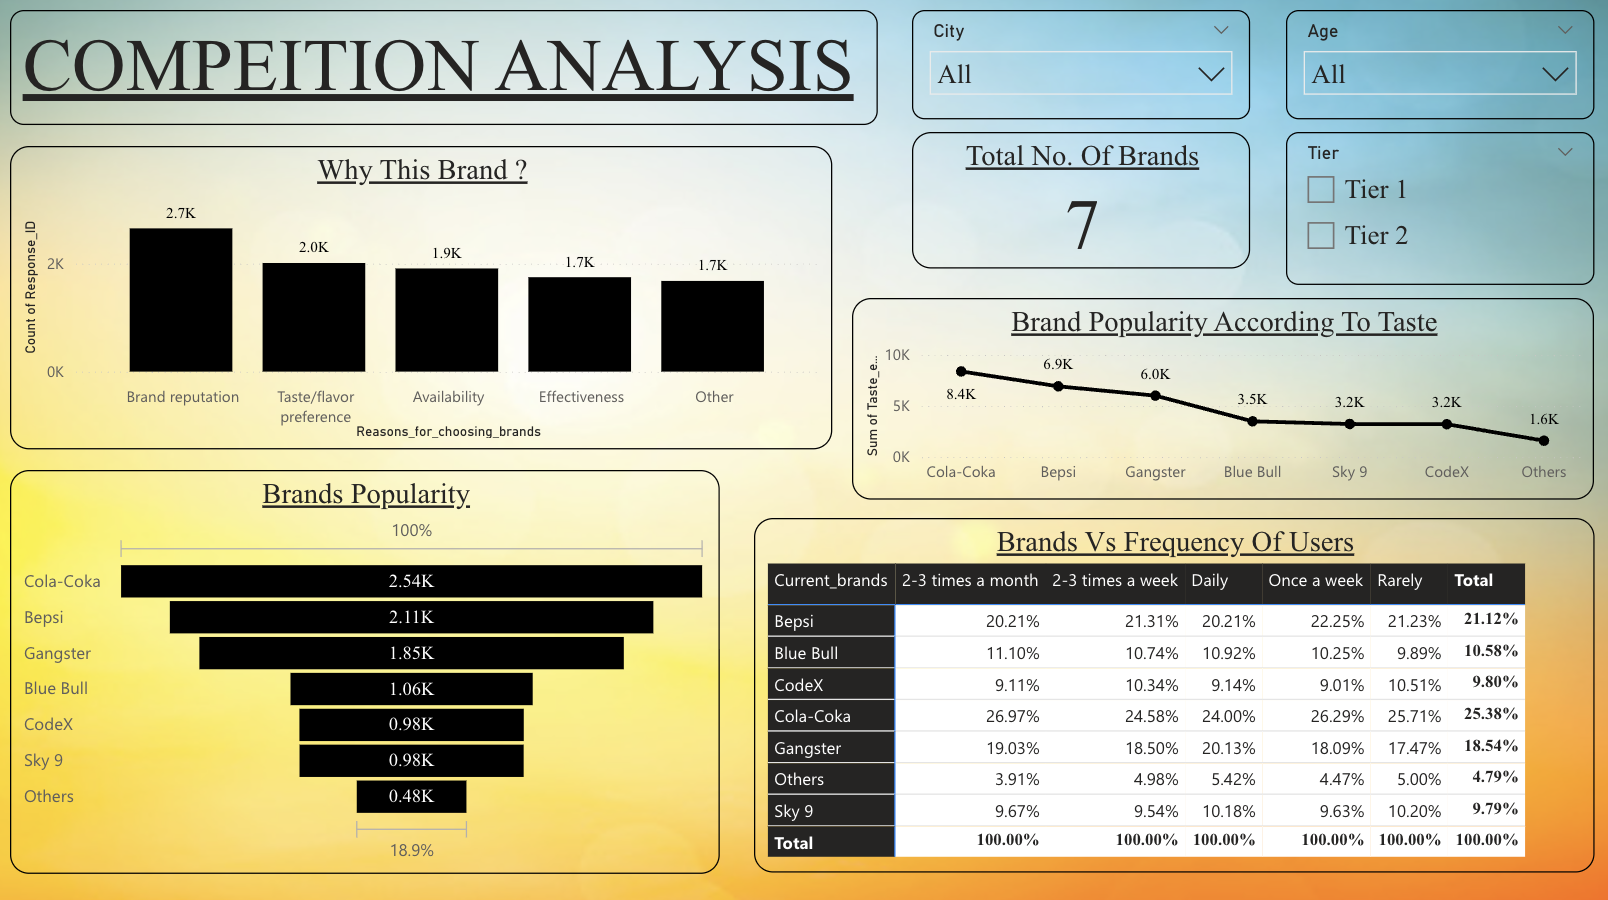

What the dashboard file says about the page in this screenshot:
{"tool":"powerbi","page":{"name":"competition analysis","canvas":[1280,720],"ordinal":3},"visuals":[{"type":"textbox","box":[11.3,11.3,686.3,90.8],"z":0},{"type":"slicer","fields":{"Values":["dim_cities.City"]},"box":[725.3,10.8,267.7,86.3],"z":1000},{"type":"slicer","fields":{"Values":["dim_repondents.Age"]},"box":[1021,10.8,243.9,86.3],"z":2000},{"type":"slicer","fields":{"Values":["dim_cities.Tier"]},"box":[1021,107.9,243.9,120.9],"z":3000},{"type":"card","title":"Total No. Of Brands","fields":{"Values":["Count(fact_survey_responses.Current_brands)"]},"box":[725.3,107.9,267.7,107.9],"z":4000},{"type":"funnel","title":"Brands Popularity","fields":{"Category":["fact_survey_responses.Current_brands"],"Y":["CountNonNull(fact_survey_responses.Response_ID)"]},"box":[11.3,374.4,561.5,319.5],"z":5000},{"type":"clusteredColumnChart","title":"Why This Brand ? ","fields":{"Y":["CountNonNull(fact_survey_responses.Response_ID)"],"Category":["fact_survey_responses.Reasons_for_choosing_brands"]},"box":[11.3,119.1,650.4,240.1],"z":6000},{"type":"lineChart","title":"Brand Popularity According To Taste","fields":{"Category":["fact_survey_responses.Current_brands"],"Y":["Sum(fact_survey_responses.Taste_experience)"]},"box":[677.8,239.6,587.1,159.7],"z":7000},{"type":"pivotTable","title":"Brands Vs Frequency Of Users","fields":{"Rows":["fact_survey_responses.Current_brands"],"Columns":["fact_survey_responses.Consume_frequency"],"Values":["CountNonNull(fact_survey_responses.Response_ID)"]},"box":[600.1,412.3,664.8,280.6],"z":8000}]}

Visuals, with their boxes in screenshot pixels (x1, y1, x2, y2), scaled from the page's 1280x720 canvas onto the 1608x900 screenshot:
textbox: l=14, t=14, r=876, b=128
slicer - dim_cities.City: l=911, t=14, r=1247, b=121
slicer - dim_repondents.Age: l=1283, t=14, r=1589, b=121
slicer - dim_cities.Tier: l=1283, t=135, r=1589, b=286
"Total No. Of Brands" card: l=911, t=135, r=1247, b=270
"Brands Popularity" funnel: l=14, t=468, r=720, b=867
"Why This Brand ? " clusteredColumnChart: l=14, t=149, r=831, b=449
"Brand Popularity According To Taste" lineChart: l=851, t=300, r=1589, b=499
"Brands Vs Frequency Of Users" pivotTable: l=754, t=515, r=1589, b=866
